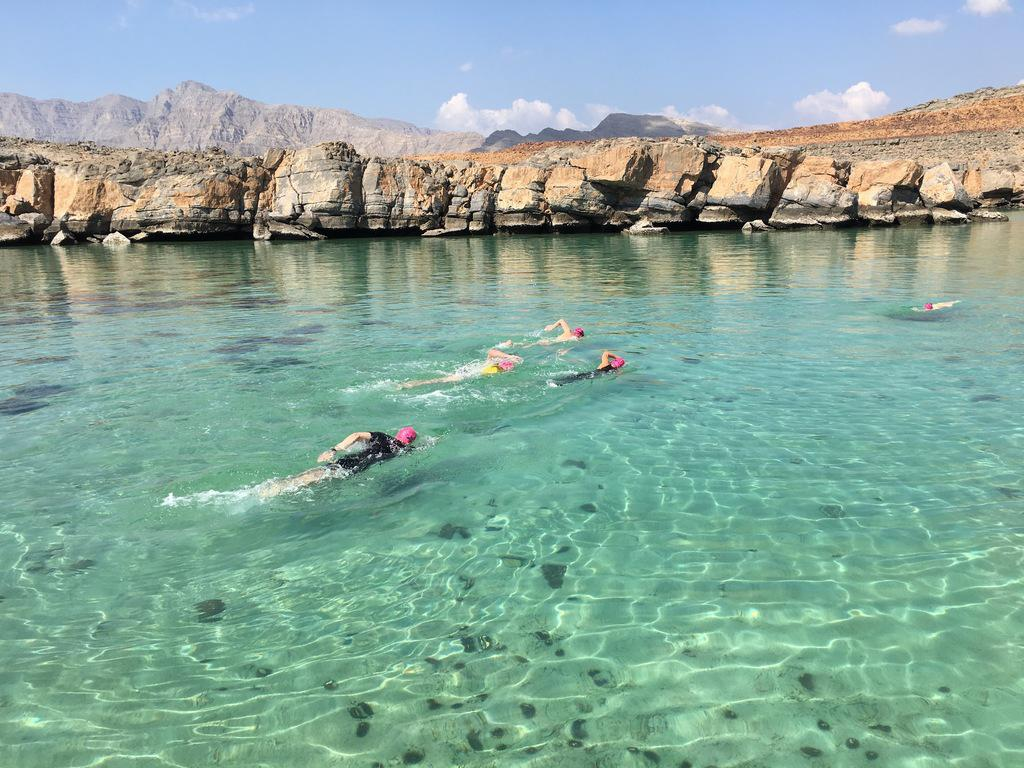swimmer: (268, 419, 418, 495), (552, 344, 626, 386), (538, 315, 584, 350)
